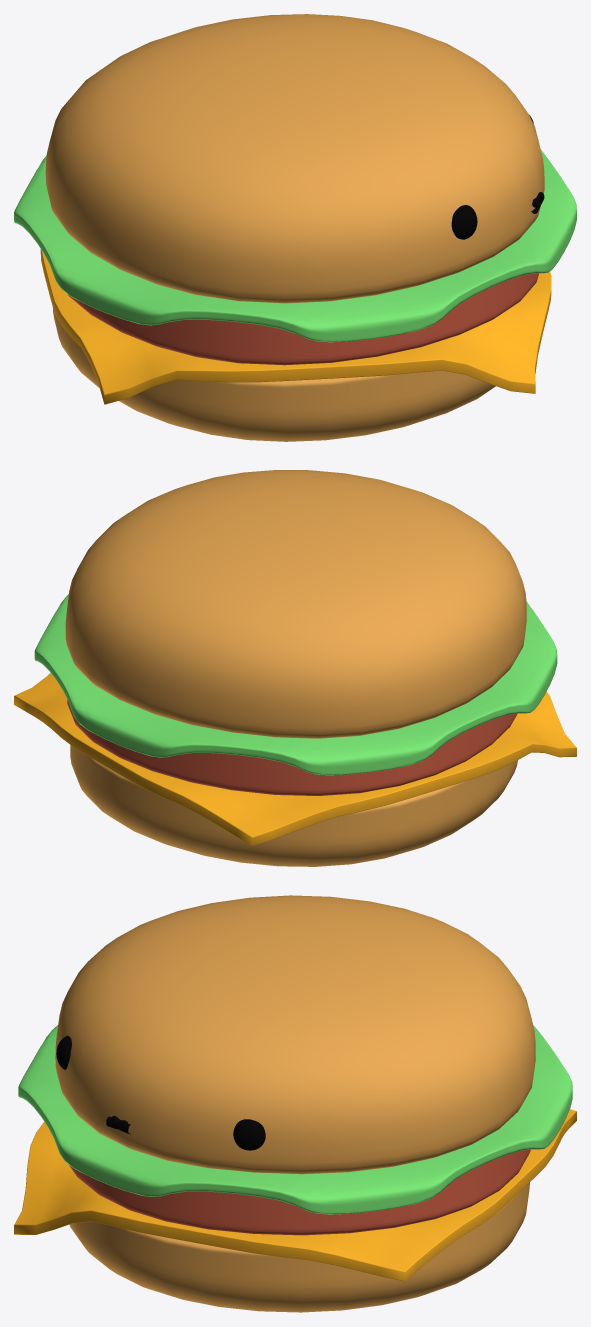
Rendered from hamburger.fbx.
3 renders of one model, top to bottom at view 1: azimuth 30°, elevation 25°; view 2: azimuth 150°, elevation 25°; view 3: azimuth 270°, elevation 25°, orthographic. The views are drawn at different scales.
Parts seen in each view (by area): view 1: Cube, Cylinder, Plane, Cube.003, Cube.001, Cube.002; view 2: Cube, Cylinder, Cube.003, Plane, Cube.001; view 3: Cube, Cylinder, Cube.003, Plane, Cube.001, Cube.004.
Part boxes in pixels (bbox=[...]): Cube: bbox=[45, 14, 544, 303]; Cylinder: bbox=[14, 149, 576, 342]; Plane: bbox=[40, 249, 551, 404]; Cube.003: bbox=[52, 307, 495, 441]; Cube.001: bbox=[67, 273, 538, 365]; Cube.002: bbox=[451, 205, 477, 239]; Cube: bbox=[65, 470, 526, 738]; Cylinder: bbox=[34, 594, 557, 775]; Cube.003: bbox=[70, 745, 517, 866]; Plane: bbox=[14, 673, 576, 846]; Cube.001: bbox=[67, 699, 517, 795]; Cube: bbox=[55, 895, 535, 1174]; Cylinder: bbox=[18, 1025, 572, 1214]; Cube.003: bbox=[69, 1182, 529, 1312]; Plane: bbox=[14, 1109, 576, 1281]; Cube.001: bbox=[68, 1149, 530, 1235]; Cube.004: bbox=[233, 1119, 265, 1150].
Bounding box in the file's own units: 331 × 196 × 331.
